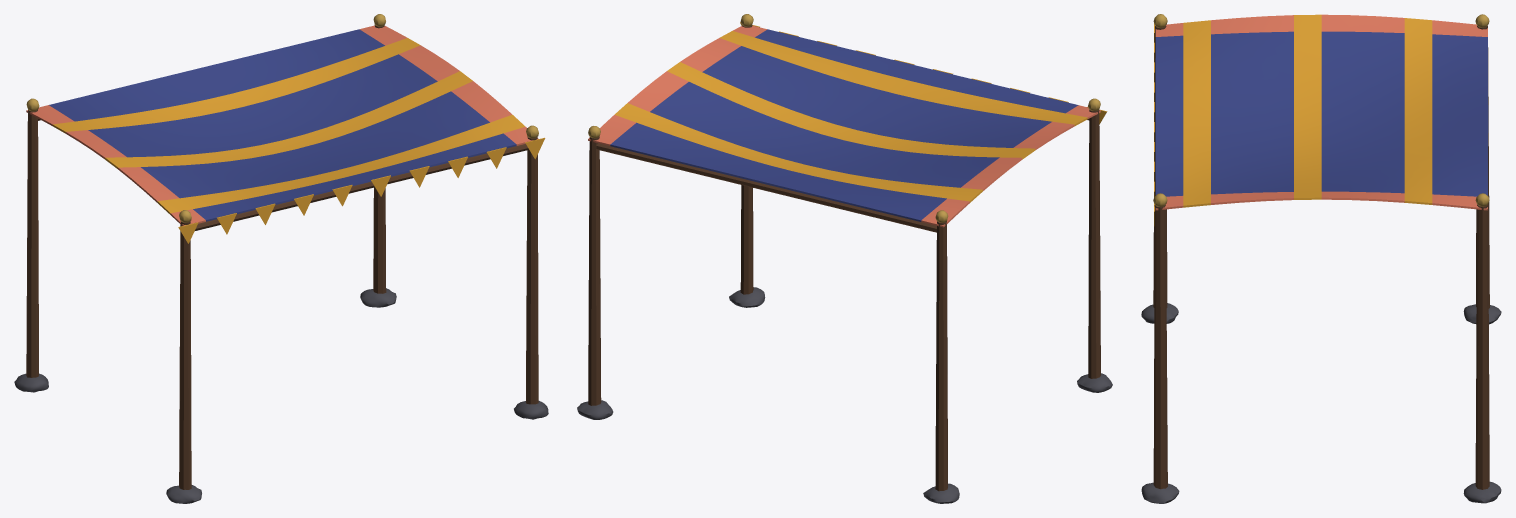
Rendered from deco_awning_large.fbx.
The picture shows the model from 3 angles, left to right: view 1: azimuth 30°, elevation 25°; view 2: azimuth 150°, elevation 25°; view 3: azimuth 270°, elevation 25°; orthographic projection. The views are drawn at different scales.
Visible parts, largest first — view 1: Awning_Large_Roof, Awning_Large_Frame; view 2: Awning_Large_Roof, Awning_Large_Frame; view 3: Awning_Large_Roof, Awning_Large_Frame.
Part boxes in pixels (x1,y1,x2,y2): Awning_Large_Roof: (26,25,545,243); Awning_Large_Frame: (14,14,548,503); Awning_Large_Roof: (588,22,1107,227); Awning_Large_Frame: (577,14,1112,503); Awning_Large_Roof: (1154,14,1488,226); Awning_Large_Frame: (1141,14,1501,503).
Size of the model in its own units: 459 by 333 by 358.
